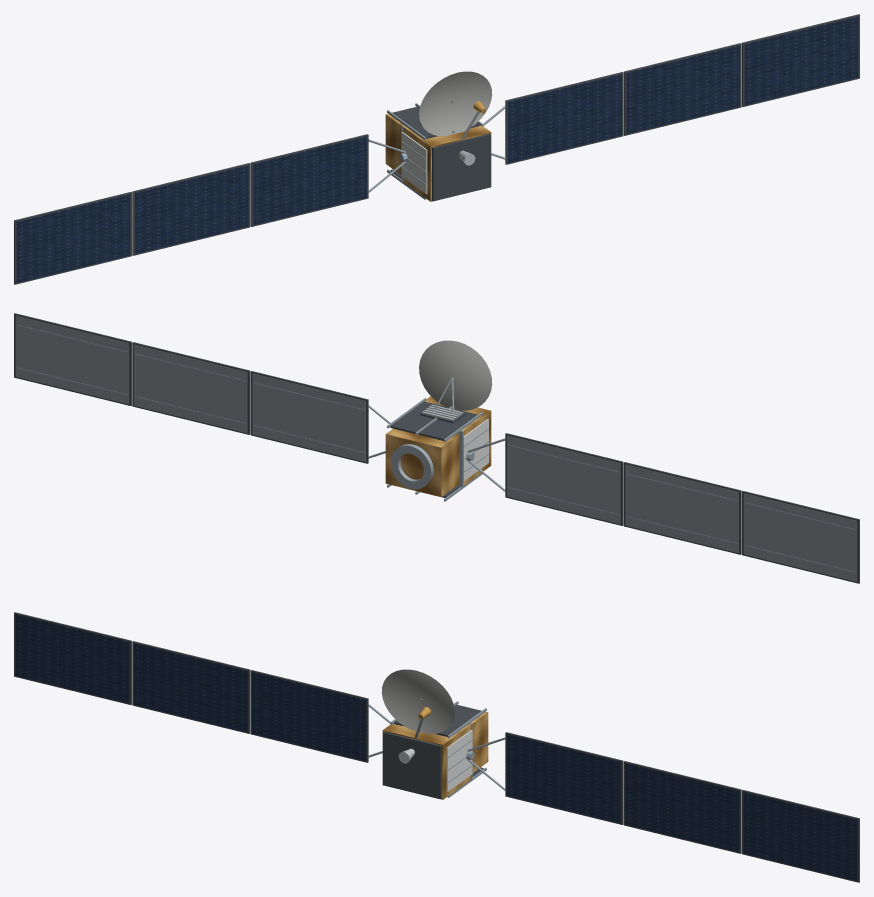
File: amc-5-spacebus.glb
3 renders of one model, top to bottom at view 1: azimuth 30°, elevation 25°; view 2: azimuth 150°, elevation 25°; view 3: azimuth 330°, elevation 25°, orthographic.
Parts seen in each view (by area): view 1: Solar cell panel (×6), Solar panel frame (×6), Communications reflector, Earth-facing deck, Payload module, Radiator face, Service module, Equipment bay sidewall; view 2: Rear array substrate (×6), Solar panel frame (×6), Communications reflector, Service module, Equipment bay sidewall, Launch adapter ring, Radiator face, Payload module; view 3: Solar cell panel (×6), Solar panel frame (×6), Communications reflector, Earth-facing deck, Payload module, Radiator face, Service module, Equipment bay sidewall.
Part boxes in pixels (left/top/right/bottom): Solar cell panel (×6): left=16, top=16, right=858, bottom=282; Solar panel frame (×6): left=14, top=14, right=859, bottom=284; Communications reflector: left=419, top=71, right=492, bottom=136; Earth-facing deck: left=432, top=133, right=491, bottom=201; Payload module: left=403, top=125, right=491, bottom=201; Radiator face: left=401, top=132, right=427, bottom=193; Service module: left=385, top=113, right=403, bottom=174; Equipment bay sidewall: left=392, top=106, right=479, bottom=138; Rear array substrate (×6): left=15, top=315, right=857, bottom=581; Solar panel frame (×6): left=14, top=313, right=859, bottom=583; Communications reflector: left=419, top=340, right=492, bottom=410; Service module: left=385, top=428, right=459, bottom=496; Equipment bay sidewall: left=390, top=401, right=477, bottom=440; Launch adapter ring: left=390, top=444, right=433, bottom=489; Radiator face: left=463, top=419, right=488, bottom=481; Payload module: left=425, top=396, right=491, bottom=485; Solar cell panel (×6): left=15, top=614, right=857, bottom=880; Solar panel frame (×6): left=14, top=612, right=859, bottom=882; Communications reflector: left=381, top=669, right=454, bottom=734; Earth-facing deck: left=382, top=731, right=441, bottom=799; Payload module: left=382, top=723, right=470, bottom=799; Radiator face: left=446, top=730, right=472, bottom=791; Service module: left=470, top=711, right=488, bottom=772; Equipment bay sidewall: left=394, top=704, right=481, bottom=736.
Bounding box in the file's own units: 22.37 × 3.14 × 2.7.
9 materials, 2 textured.
